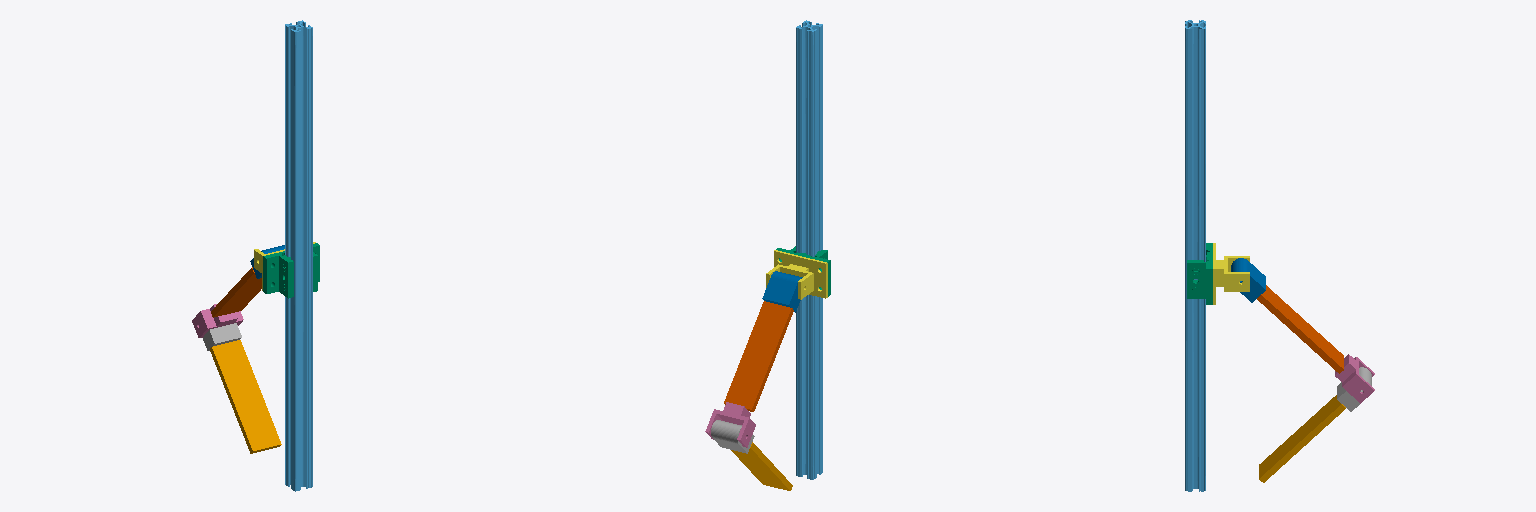
URDF robot description (Single_Leg_Jumping_Robot):
<?xml version="1.0" ?>
<robot name="Single_Leg_Jumping_Robot">

<material name="silver">
  <color rgba="0.700 0.700 0.700 1.000"/>
</material>

<link name="base_link">
  <inertial>
    <origin rpy="0 0 0" xyz="0.0 0.0 0.003175"/>
    <mass value="1.5928226207999996"/>
    <inertia ixx="0.012336857520267846" ixy="0.0" ixz="-1.227817847393453e-19" iyy="0.01233685752026787" iyz="1.227817847393453e-19" izz="0.024663010608847846"/>
  </inertial>
  <visual>
    <origin rpy="0 0 0" xyz="0 0 0"/>
    <geometry>
      <mesh filename="meshes/base_link.stl" scale="0.001 0.001 0.001"/>
    </geometry>
    <material name="silver"/>
    <material/>
  </visual>
  <collision>
    <origin rpy="0 0 0" xyz="0 0 0"/>
    <geometry>
      <mesh filename="meshes/base_link.stl" scale="0.001 0.001 0.001"/>
    </geometry>
  </collision>
</link>

<link name="L_rail1">
  <inertial>
    <origin rpy="0 0 0" xyz="4.3982002845782284e-16 8.322062605568434e-06 0.3048000000000011"/>
    <mass value="0.46108441303789777"/>
    <inertia ixx="0.014308962028525697" ixy="-1.7311394128460304e-16" ixz="4.952794952137532e-17" iyy="0.014309052908749675" iyz="-3.272130626890725e-17" izz="6.058582538467631e-05"/>
  </inertial>
  <visual>
    <origin rpy="0 0 0" xyz="-0.0 0.0 -0.00635"/>
    <geometry>
      <mesh filename="meshes/L_rail1.stl" scale="0.001 0.001 0.001"/>
    </geometry>
    <material name="silver"/>
    <material/>
  </visual>
  <collision>
    <origin rpy="0 0 0" xyz="-0.0 0.0 -0.00635"/>
    <geometry>
      <mesh filename="meshes/L_rail1.stl" scale="0.001 0.001 0.001"/>
    </geometry>
  </collision>
</link>

<link name="L_bearing1">
  <inertial>
    <origin rpy="0 0 0" xyz="-0.012852400000000043 0.010327940591961998 -0.02368549999994335"/>
    <mass value="0.11445580323219645"/>
    <inertia ixx="3.1474999743319465e-05" ixy="-2.0753630696710443e-18" ixz="-1.9651164376299768e-19" iyy="6.691514856178339e-05" iyz="2.3201926491189795e-17" izz="5.39187547508936e-05"/>
  </inertial>
  <visual>
    <origin rpy="0 0 0" xyz="-0.0127 0.0 -0.31115"/>
    <geometry>
      <mesh filename="meshes/L_bearing1.stl" scale="0.001 0.001 0.001"/>
    </geometry>
    <material name="silver"/>
    <material/>
  </visual>
  <collision>
    <origin rpy="0 0 0" xyz="-0.0127 0.0 -0.31115"/>
    <geometry>
      <mesh filename="meshes/L_bearing1.stl" scale="0.001 0.001 0.001"/>
    </geometry>
  </collision>
</link>

<link name="L_housing_upper1">
  <inertial>
    <origin rpy="0 0 0" xyz="-3.999999943100083e-07 0.011438936433210149 -4.999999999033555e-07"/>
    <mass value="0.24096966903002934"/>
    <inertia ixx="5.771345250499618e-05" ixy="8.201608270026577e-18" ixz="1.4907779871675686e-19" iyy="0.00010904774682429785" iyz="4.336808689942018e-19" izz="0.00011445375550853538"/>
  </inertial>
  <visual>
    <origin rpy="0 0 0" xyz="0.000152 -0.020625 -0.287465"/>
    <geometry>
      <mesh filename="meshes/L_housing_upper1.stl" scale="0.001 0.001 0.001"/>
    </geometry>
    <material name="silver"/>
    <material/>
  </visual>
  <collision>
    <origin rpy="0 0 0" xyz="0.000152 -0.020625 -0.287465"/>
    <geometry>
      <mesh filename="meshes/L_housing_upper1.stl" scale="0.001 0.001 0.001"/>
    </geometry>
  </collision>
</link>

<link name="L_motor_upper1">
  <inertial>
    <origin rpy="0 0 0" xyz="-3.999999999823101e-07 0.007362699659806571 -0.007363399659806813"/>
    <mass value="0.2763927635732037"/>
    <inertia ixx="4.9614093129958514e-05" ixy="-1.4823076576950256e-18" ixz="1.3806637040245096e-18" iyy="5.8066309114951364e-05" iyz="1.2077890961398503e-05" izz="5.8066309114967194e-05"/>
  </inertial>
  <visual>
    <origin rpy="0 0 0" xyz="0.000152 -0.054405 -0.287465"/>
    <geometry>
      <mesh filename="meshes/L_motor_upper1.stl" scale="0.001 0.001 0.001"/>
    </geometry>
    <material name="silver"/>
    <material/>
  </visual>
  <collision>
    <origin rpy="0 0 0" xyz="0.000152 -0.054405 -0.287465"/>
    <geometry>
      <mesh filename="meshes/L_motor_upper1.stl" scale="0.001 0.001 0.001"/>
    </geometry>
  </collision>
</link>

<link name="L_link_upper1">
  <inertial>
    <origin rpy="0 0 0" xyz="-3.9999999991744773e-07 0.049497478118654695 -0.0494971781186547"/>
    <mass value="0.3516799999999987"/>
    <inertia ixx="0.0005762862933332384" ixy="1.5983511714688647e-18" ixz="1.853308088592409e-18" iyy="0.00033503381333331583" iyz="0.00028626752000000637" izz="0.0003350338133333696"/>
  </inertial>
  <visual>
    <origin rpy="0 0 0" xyz="0.000152 -0.075618 -0.266251"/>
    <geometry>
      <mesh filename="meshes/L_link_upper1.stl" scale="0.001 0.001 0.001"/>
    </geometry>
    <material name="silver"/>
    <material/>
  </visual>
  <collision>
    <origin rpy="0 0 0" xyz="0.000152 -0.075618 -0.266251"/>
    <geometry>
      <mesh filename="meshes/L_link_upper1.stl" scale="0.001 0.001 0.001"/>
    </geometry>
  </collision>
</link>

<link name="L_housing_lower1">
  <inertial>
    <origin rpy="0 0 0" xyz="-3.999999999043289e-07 0.011695490840459677 -0.011695190840459557"/>
    <mass value="0.15698254212200188"/>
    <inertia ixx="2.7347126989077722e-05" ixy="-1.6473096758201633e-17" ixz="1.2249366966718064e-17" iyy="5.1599123840350564e-05" iyz="6.0656800972011884e-06" izz="5.159912384034796e-05"/>
  </inertial>
  <visual>
    <origin rpy="0 0 0" xyz="0.000152 -0.174613 -0.167256"/>
    <geometry>
      <mesh filename="meshes/L_housing_lower1.stl" scale="0.001 0.001 0.001"/>
    </geometry>
    <material name="silver"/>
    <material/>
  </visual>
  <collision>
    <origin rpy="0 0 0" xyz="0.000152 -0.174613 -0.167256"/>
    <geometry>
      <mesh filename="meshes/L_housing_lower1.stl" scale="0.001 0.001 0.001"/>
    </geometry>
  </collision>
</link>

<link name="L_motor_lower1">
  <inertial>
    <origin rpy="0 0 0" xyz="-3.9999999991492696e-07 -0.007362879789612142 -0.007362619530001391"/>
    <mass value="0.2763927635732037"/>
    <inertia ixx="4.9614093129849227e-05" ixy="3.477070248478903e-17" ixz="4.267097878382989e-17" iyy="5.806630911492708e-05" iyz="-1.2077890961431463e-05" izz="5.806630911492881e-05"/>
  </inertial>
  <visual>
    <origin rpy="0 0 0" xyz="0.000152 -0.198499 -0.14337"/>
    <geometry>
      <mesh filename="meshes/L_motor_lower1.stl" scale="0.001 0.001 0.001"/>
    </geometry>
    <material name="silver"/>
    <material/>
  </visual>
  <collision>
    <origin rpy="0 0 0" xyz="0.000152 -0.198499 -0.14337"/>
    <geometry>
      <mesh filename="meshes/L_motor_lower1.stl" scale="0.001 0.001 0.001"/>
    </geometry>
  </collision>
</link>

<link name="L_link_lower1">
  <inertial>
    <origin rpy="0 0 0" xyz="-4.00000000005241e-07 -0.04949765824845964 -0.04949739798884868"/>
    <mass value="0.3516799999999987"/>
    <inertia ixx="0.0005762862933324829" ixy="3.222960364302613e-17" ixz="7.687416919395854e-17" iyy="0.0003350338133328171" iyz="-0.00028626752000008486" izz="0.00033503381333332104"/>
  </inertial>
  <visual>
    <origin rpy="0 0 0" xyz="0.000152 -0.177286 -0.122157"/>
    <geometry>
      <mesh filename="meshes/L_link_lower1.stl" scale="0.001 0.001 0.001"/>
    </geometry>
    <material name="silver"/>
    <material/>
  </visual>
  <collision>
    <origin rpy="0 0 0" xyz="0.000152 -0.177286 -0.122157"/>
    <geometry>
      <mesh filename="meshes/L_link_lower1.stl" scale="0.001 0.001 0.001"/>
    </geometry>
  </collision>
</link>

<joint name="J_R_base_rail" type="fixed">
  <origin rpy="0 0 0" xyz="0.0 0.0 0.00635"/>
  <parent link="base_link"/>
  <child link="L_rail1"/>
</joint>

<joint name="J_P_rail_bearing" type="prismatic">
  <origin rpy="0 0 0" xyz="0.0127 0.0 0.3048"/>
  <parent link="L_rail1"/>
  <child link="L_bearing1"/>
  <axis xyz="0.0 0.0 1.0"/>
  <limit effort="100" lower="-0.15" upper="0.2" velocity="100"/>
</joint>
<transmission name="J_P_rail_bearing_tran">
  <type>transmission_interface/SimpleTransmission</type>
  <joint name="J_P_rail_bearing">
    <hardwareInterface>PositionJointInterface</hardwareInterface>
  </joint>
  <actuator name="J_P_rail_bearing_actr">
    <hardwareInterface>PositionJointInterface</hardwareInterface>
    <mechanicalReduction>1</mechanicalReduction>
  </actuator>
</transmission>

<joint name="J_R_bearing_upperHousing" type="fixed">
  <origin rpy="0 0 0" xyz="-0.012852 0.020625 -0.023685"/>
  <parent link="L_bearing1"/>
  <child link="L_housing_upper1"/>
</joint>

<joint name="J_C_upperHousing_upperMotor" type="revolute">
  <origin rpy="0 0 0" xyz="0.0 0.03378 0.0"/>
  <parent link="L_housing_upper1"/>
  <child link="L_motor_upper1"/>
  <axis xyz="-1.0 0.0 -0.0"/>
  <limit effort="100" lower="-0.523599" upper="0.523599" velocity="100"/>
</joint>
<transmission name="J_C_upperHousing_upperMotor_tran">
  <type>transmission_interface/SimpleTransmission</type>
  <joint name="J_C_upperHousing_upperMotor">
    <hardwareInterface>PositionJointInterface</hardwareInterface>
  </joint>
  <actuator name="J_C_upperHousing_upperMotor_actr">
    <hardwareInterface>PositionJointInterface</hardwareInterface>
    <mechanicalReduction>1</mechanicalReduction>
  </actuator>
</transmission>

<joint name="J_R_upperHousing_upperLink" type="fixed">
  <origin rpy="0 0 0" xyz="0.0 0.021213 -0.021214"/>
  <parent link="L_motor_upper1"/>
  <child link="L_link_upper1"/>
</joint>

<joint name="J_R_upperLink_lowerHousing" type="fixed">
  <origin rpy="0 0 0" xyz="0.0 0.098995 -0.098995"/>
  <parent link="L_link_upper1"/>
  <child link="L_housing_lower1"/>
</joint>

<joint name="J_C_lowerHousing_lowerMotor" type="revolute">
  <origin rpy="0 0 0" xyz="0.0 0.023886 -0.023886"/>
  <parent link="L_housing_lower1"/>
  <child link="L_motor_lower1"/>
  <axis xyz="-1.0 0.0 -0.0"/>
  <limit effort="100" lower="-0.523599" upper="0.523599" velocity="100"/>
</joint>
<transmission name="J_C_lowerHousing_lowerMotor_tran">
  <type>transmission_interface/SimpleTransmission</type>
  <joint name="J_C_lowerHousing_lowerMotor">
    <hardwareInterface>PositionJointInterface</hardwareInterface>
  </joint>
  <actuator name="J_C_lowerHousing_lowerMotor_actr">
    <hardwareInterface>PositionJointInterface</hardwareInterface>
    <mechanicalReduction>1</mechanicalReduction>
  </actuator>
</transmission>

<joint name="J_R_lowerMotor_lowerLink" type="fixed">
  <origin rpy="0 0 0" xyz="0.0 -0.021213 -0.021213"/>
  <parent link="L_motor_lower1"/>
  <child link="L_link_lower1"/>
</joint>

</robot>

--- Facts derived from the render (not from the file) ---
3 views of the same robot in one strip: view 1: azimuth 30°, elevation 25°; view 2: azimuth 150°, elevation 25°; view 3: azimuth 270°, elevation 25° (orthographic).
Model Single_Leg_Jumping_Robot with 9 links and 8 joints (2 revolute, 1 prismatic, 5 fixed), rooted at base_link, posed every joint at zero.
Links seen in each view (by area): view 1: L_rail1, L_link_lower1, L_bearing1, L_link_upper1, L_housing_lower1, L_motor_lower1; view 2: L_rail1, L_link_upper1, L_housing_upper1, L_link_lower1, L_motor_upper1, L_housing_lower1, L_motor_lower1; view 3: L_rail1, L_link_lower1, L_link_upper1, L_bearing1, L_housing_upper1, L_housing_lower1, L_motor_upper1.
Link boxes in pixels (<box>): L_rail1: <box>285,20,312,491</box>; L_link_lower1: <box>210,340,281,453</box>; L_bearing1: <box>263,243,319,298</box>; L_link_upper1: <box>211,267,261,317</box>; L_housing_lower1: <box>192,304,243,337</box>; L_motor_lower1: <box>203,323,241,350</box>; L_rail1: <box>796,20,822,479</box>; L_link_upper1: <box>724,301,793,411</box>; L_housing_upper1: <box>766,250,827,299</box>; L_link_lower1: <box>731,442,792,490</box>; L_motor_upper1: <box>762,271,802,312</box>; L_housing_lower1: <box>705,402,755,447</box>; L_motor_lower1: <box>711,420,754,453</box>; L_rail1: <box>1185,20,1205,491</box>; L_link_lower1: <box>1259,395,1345,482</box>; L_link_upper1: <box>1257,285,1343,373</box>; L_bearing1: <box>1187,243,1212,304</box>; L_housing_upper1: <box>1213,243,1249,304</box>; L_housing_lower1: <box>1335,354,1374,403</box>; L_motor_upper1: <box>1231,258,1265,302</box>.
Bounding box of the posed robot: 0.0746 × 0.2268 × 0.6096 m (x, y, z).
Meshes: 9 distinct files referenced, 8 mesh visuals loaded (8 binary STL); not drawn: 1 (reference not matched to a file when rendering).
